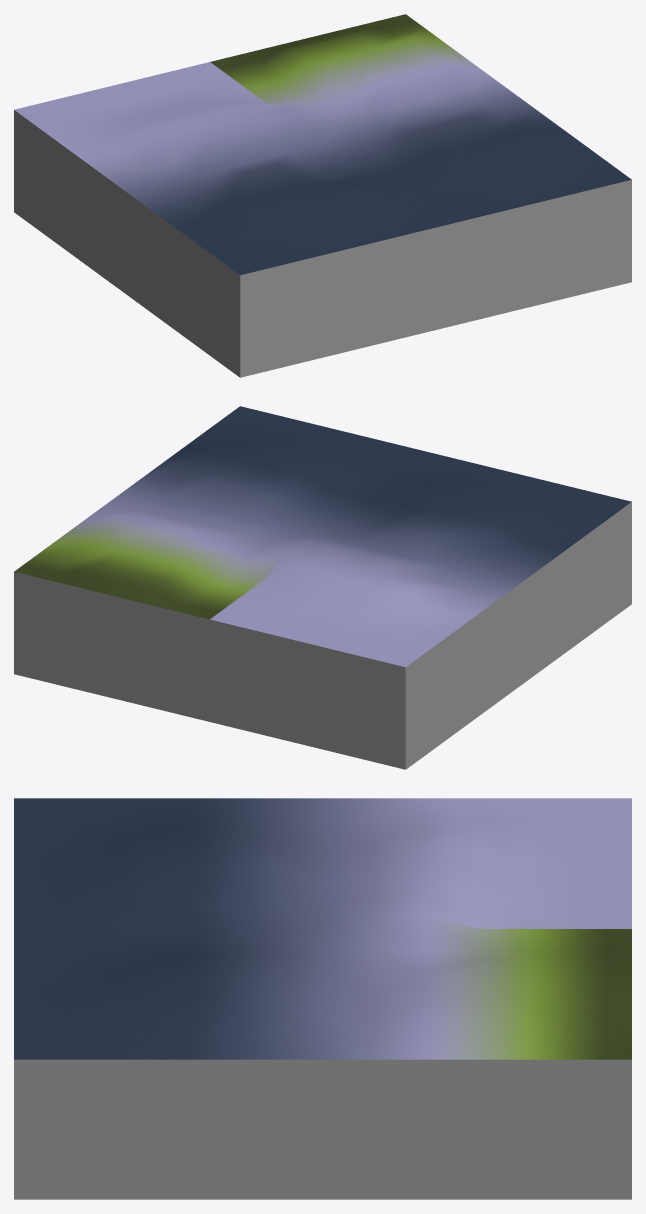
File: PathHillNon.fbx
3 renders of one model, top to bottom at view 1: azimuth 30°, elevation 25°; view 2: azimuth 150°, elevation 25°; view 3: azimuth 270°, elevation 25°, orthographic. The views are drawn at different scales.
Visible parts, largest first — view 1: PathHillNon; view 2: PathHillNon; view 3: PathHillNon.
Boxes of the visible parts, box(x1,y1,x2,y2) form: PathHillNon: box(14, 14, 631, 377); PathHillNon: box(14, 406, 631, 769); PathHillNon: box(14, 798, 631, 1199).
Size of the model in its own units: 1200 by 329 by 1200.
